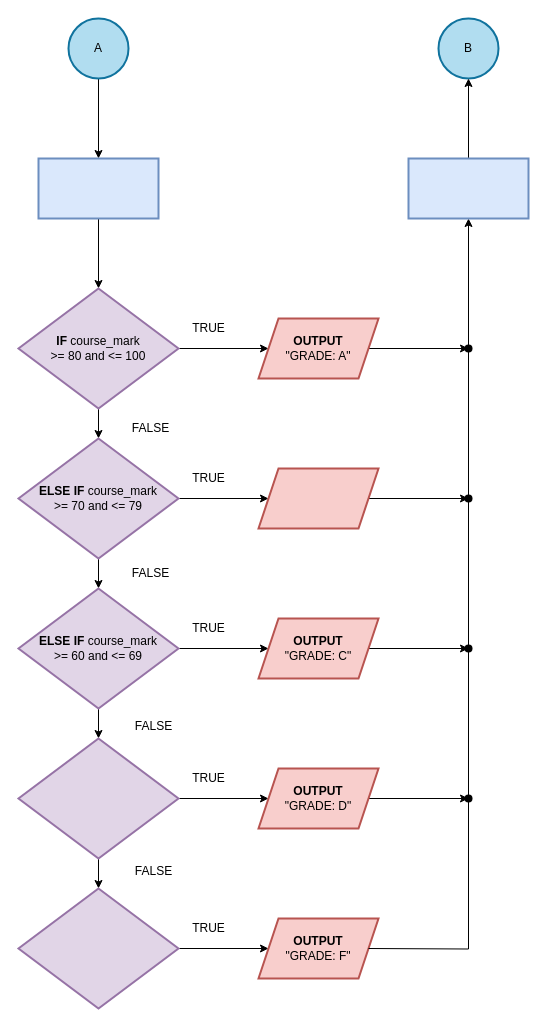
The diagram is 546 pixels wide and 1026 high, and some of its shapes have lost their labels. The shapes that lost their labels are listed below. From the top down, each one's centre as x and y in pixels, then its label:
[98,188]: mark_count +=1
[468,188]: STORE course_mark in list
[318,498]: OUTPUT "GRADE: B"
[98,798]: ELSE IF course_mark >= 50 and <= 59
[98,948]: ELSE IF course_mark <= 49
